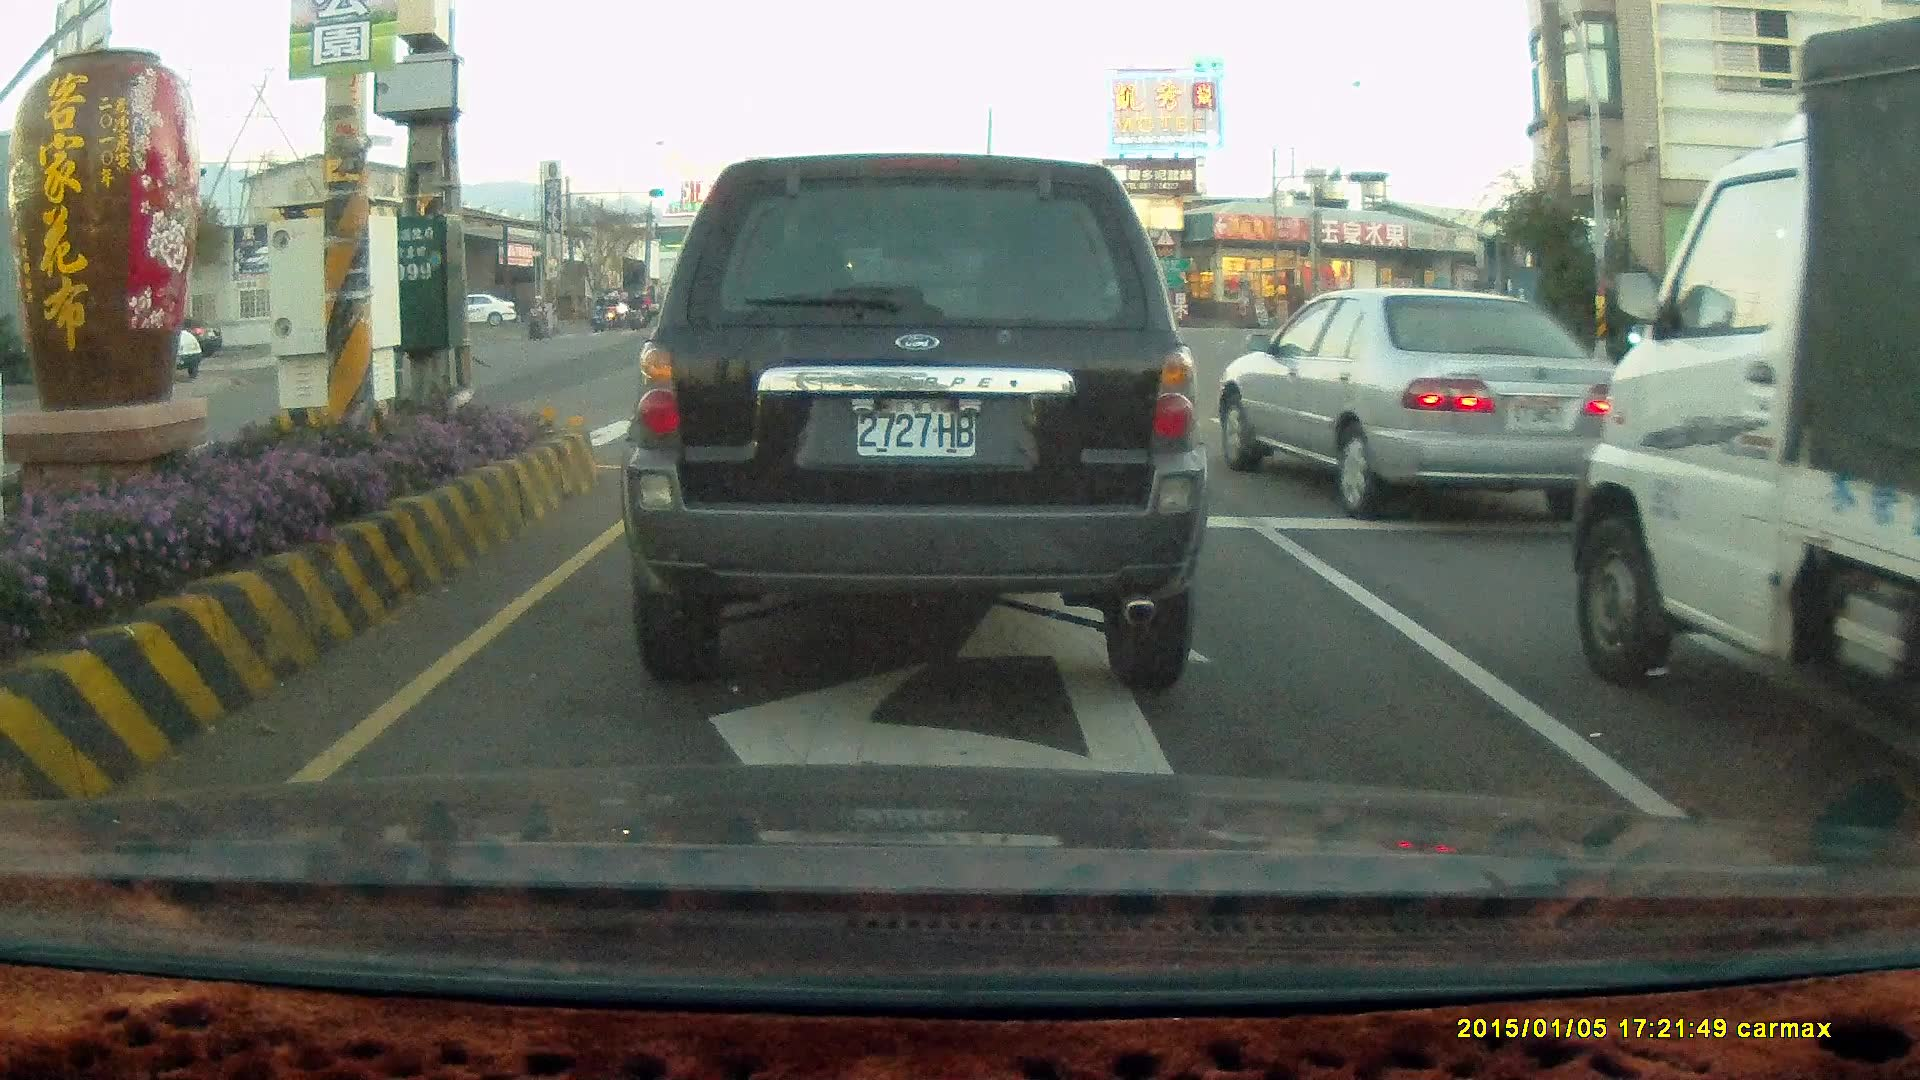rider: (520, 290, 551, 340), (624, 289, 648, 332), (588, 290, 609, 333), (591, 294, 613, 332)
vehicle: (617, 152, 1209, 694), (1567, 12, 1920, 799), (1212, 285, 1629, 521), (1212, 288, 1616, 522), (1673, 280, 1829, 371), (448, 295, 518, 328)
